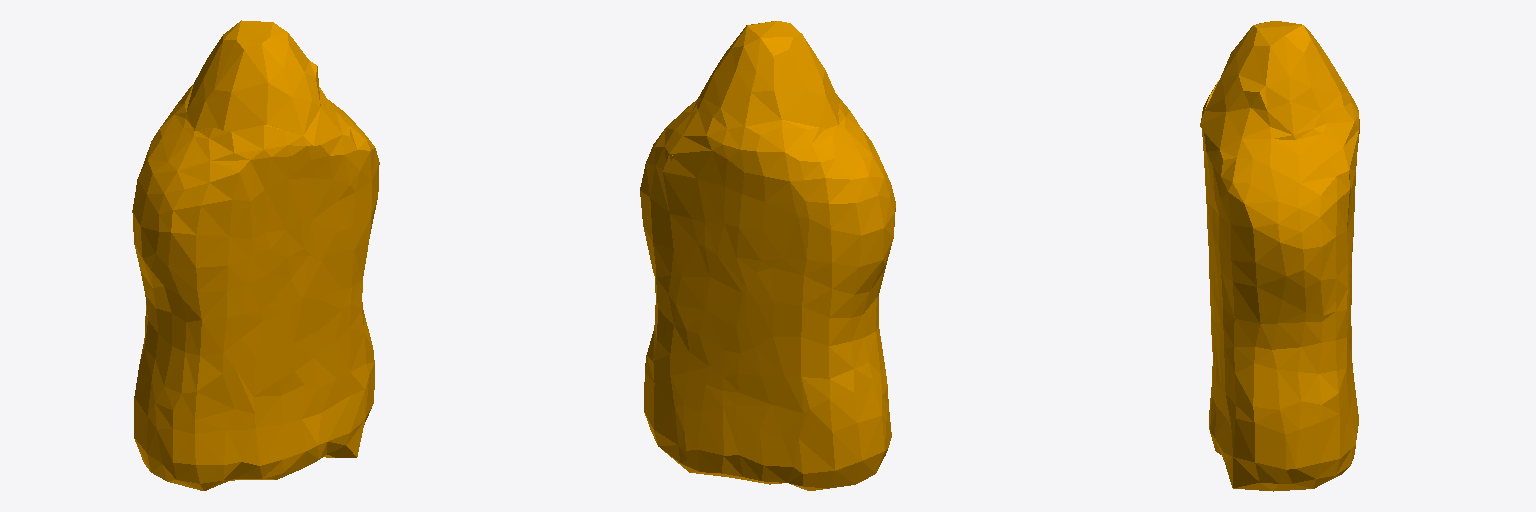
robot.urdf — mustard:
<?xml version="2.0" ?>
<robot name="mustard" xmlns:xacro="http://www.ros.org/wiki/xacro">
    <link name="mustard">
        <contact>
          <restitution value="0.5" />
	  <!--
            <rolling_friction value="0.01"/>
            <spinning_friction value="0.01"/>
	  -->
	  <rolling_friction value="1.0"/>
          <spinning_friction value="1.0"/>
	    
        </contact>
        <inertial>
            <origin rpy="0 0 0.0" xyz="0 0 0"/>
            <mass value="5.0"/> <!-- used to be 2.0 -->
	    <!--
		<inertia ixx="1.0e-2" ixy="0" ixz="0" iyy="1.0e-2" iyz="0" izz="1.0e-2"/>
	    -->
	    <inertia ixx="10.0" ixy="0" ixz="0" iyy="10.0" iyz="0" izz="10.0"/>
        </inertial>
        <visual>
            <origin rpy="0 0 0.0" xyz="0 0 0"/>
            <geometry>
                <mesh filename="package://kuka_gripper_description/meshes/mustard.obj"/>
            </geometry>
            <material name="mustard">
                <texture filename="package://kuka_gripper_description/meshes/mustard.png"/>
            </material> 
        </visual>
        <collision>
            <origin rpy="0 0 0.0" xyz="0 0 0"/>
            <geometry>
                <mesh filename="package://kuka_gripper_description/meshes/mustard.obj"/>
            </geometry>
        </collision>
    </link>
</robot>

--- Render facts (derived) ---
The picture shows the robot from 3 angles, left to right: view 1: azimuth 30°, elevation 25°; view 2: azimuth 150°, elevation 25°; view 3: azimuth 270°, elevation 25°; orthographic projection.
Robot: mustard — 1 links, 0 joints (none); root link mustard; default pose: all joints at 0.
Visible links, largest first — view 1: mustard; view 2: mustard; view 3: mustard.
Boxes of the visible links, x1=… form: mustard: x1=132, y1=20, x2=379, y2=490; mustard: x1=640, y1=21, x2=895, y2=490; mustard: x1=1200, y1=21, x2=1359, y2=491.
Size in the robot's own frame: 0.1039 by 0.0632 by 0.1846 metres.
Meshes: 1 distinct files referenced, 1 mesh visuals loaded (1 OBJ).